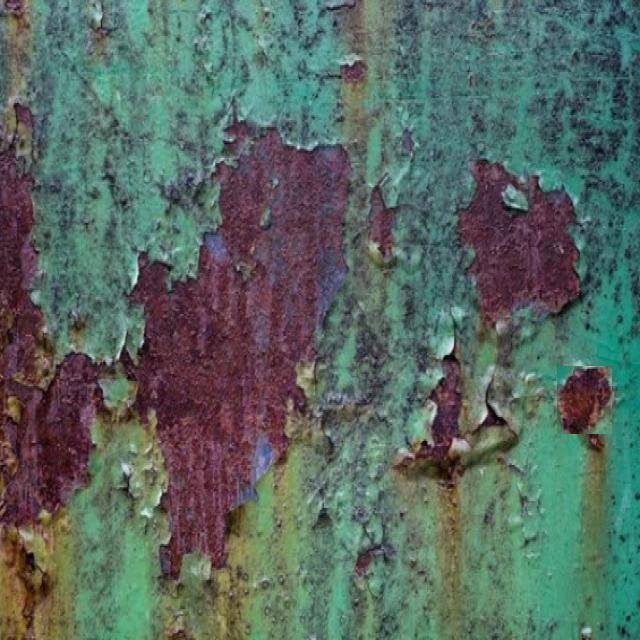Corrosion: (131, 123, 350, 576), (0, 140, 101, 526), (459, 160, 581, 326), (395, 355, 518, 478), (559, 369, 614, 434), (430, 355, 462, 446), (369, 185, 397, 268), (340, 53, 367, 82)
